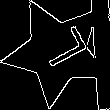L_SW: (28, 26, 87, 77)
